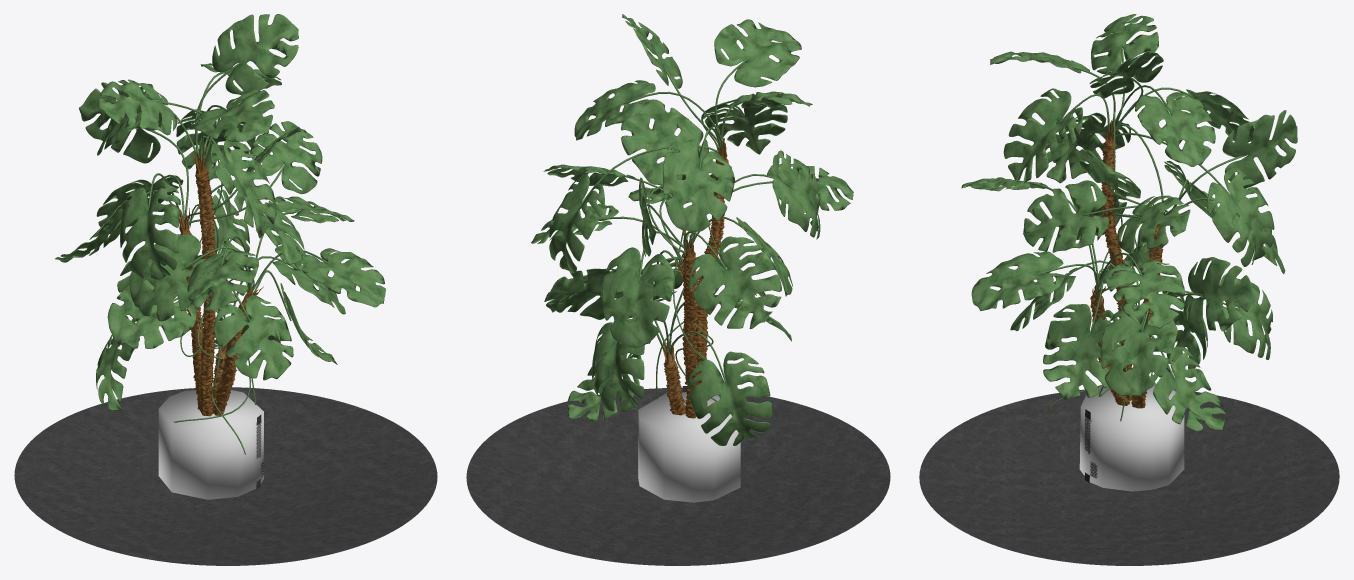
The model's file is stylish_green_plant_3d_model__modern_home_decor.glb.
The picture shows the model from 3 angles, left to right: view 1: azimuth 30°, elevation 25°; view 2: azimuth 150°, elevation 25°; view 3: azimuth 270°, elevation 25°; orthographic projection.
Visible parts, largest first — view 1: Object_5_green_0, EcoSuelo, Object_11_st_red_0, Object_4_broun_0; view 2: Object_5_green_0, EcoSuelo, Object_11_st_red_0, Object_4_broun_0; view 3: Object_5_green_0, EcoSuelo, Object_11_st_red_0, Object_4_broun_0.
Boxes of the visible parts, x1=… form: Object_5_green_0: x1=55, y1=14, x2=385, y2=454; EcoSuelo: x1=14, y1=387, x2=437, y2=565; Object_11_st_red_0: x1=158, y1=390, x2=263, y2=499; Object_4_broun_0: x1=179, y1=145, x2=263, y2=416; Object_5_green_0: x1=531, y1=14, x2=853, y2=446; EcoSuelo: x1=466, y1=388, x2=890, y2=565; Object_11_st_red_0: x1=638, y1=392, x2=740, y2=502; Object_4_broun_0: x1=662, y1=131, x2=728, y2=418; Object_5_green_0: x1=961, y1=14, x2=1297, y2=431; EcoSuelo: x1=919, y1=389, x2=1339, y2=565; Object_11_st_red_0: x1=1079, y1=383, x2=1184, y2=491; Object_4_broun_0: x1=1090, y1=119, x2=1165, y2=408.
Bounding box in the file's own units: 7 × 8.53 × 7.
Materials: 5 (4 with a texture image).
